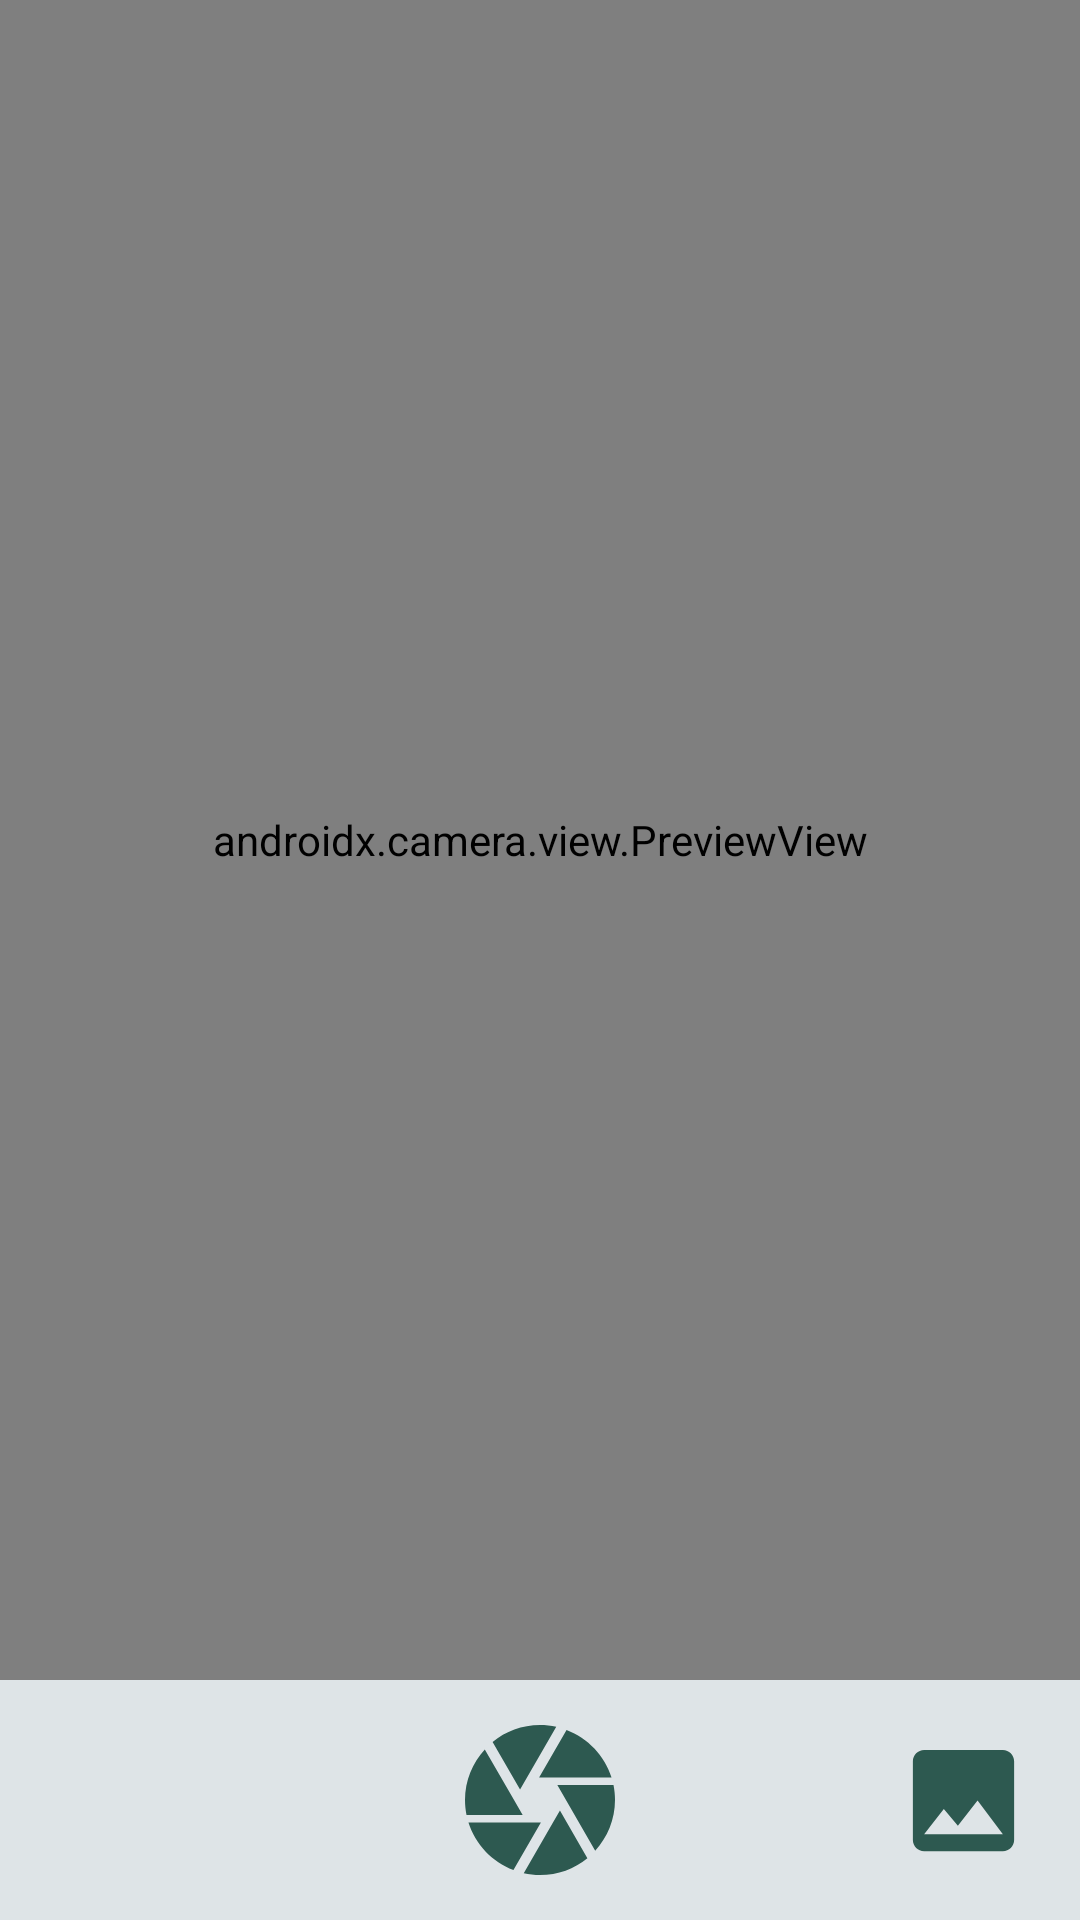

Screen size 1080 x 1920. Icon name, then its box in pixels as bbox(x1, y1, x2, y2):
capture picture: bbox(465, 1725, 615, 1875)
upload from galery: bbox(913, 1750, 1014, 1852)
